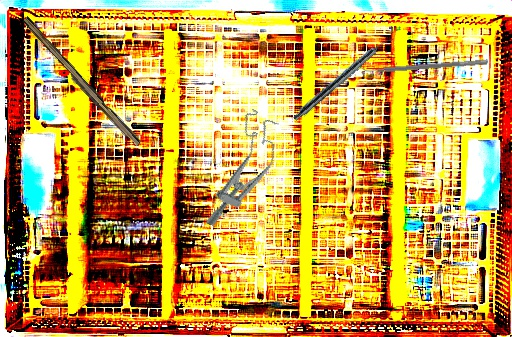Handpiece: (291, 33, 395, 124)
Scalpel Handle: (18, 15, 144, 150)
Spatula Surgical: (358, 53, 489, 76)
Speculum: (197, 107, 290, 238)
